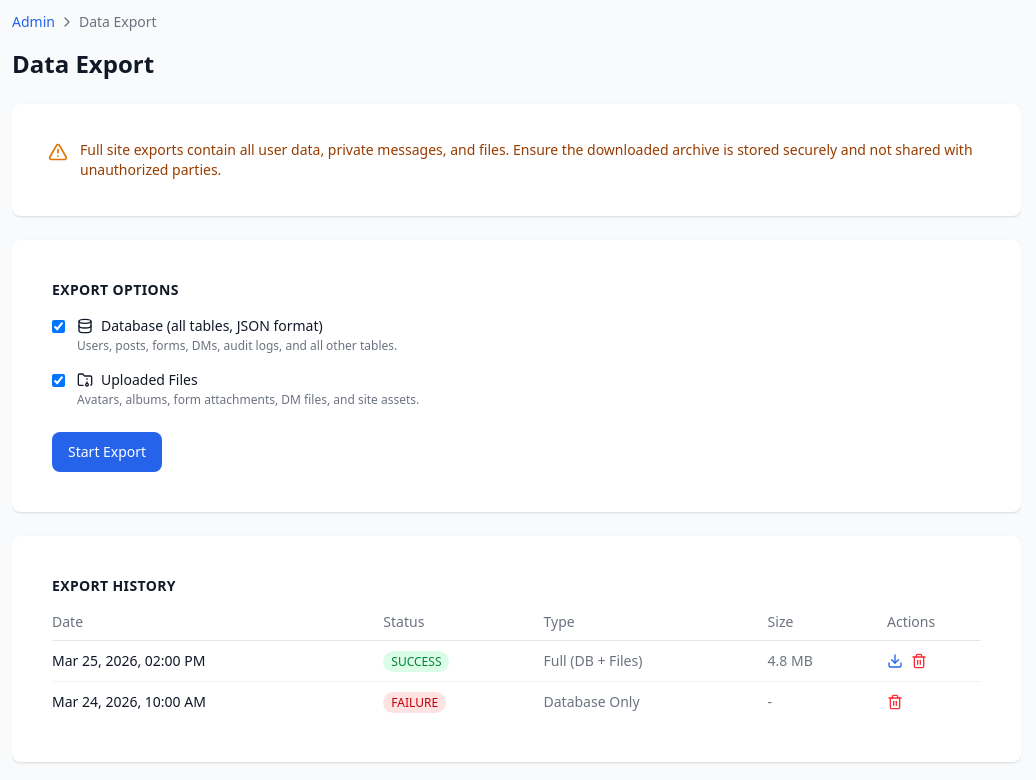
DataExportView › disables start button when no options selected
The image size is (1036, 780).
# Uncheck both options
Click the 1st checkbox at {"x": 58, "y": 326}, box [52,320,65,333]
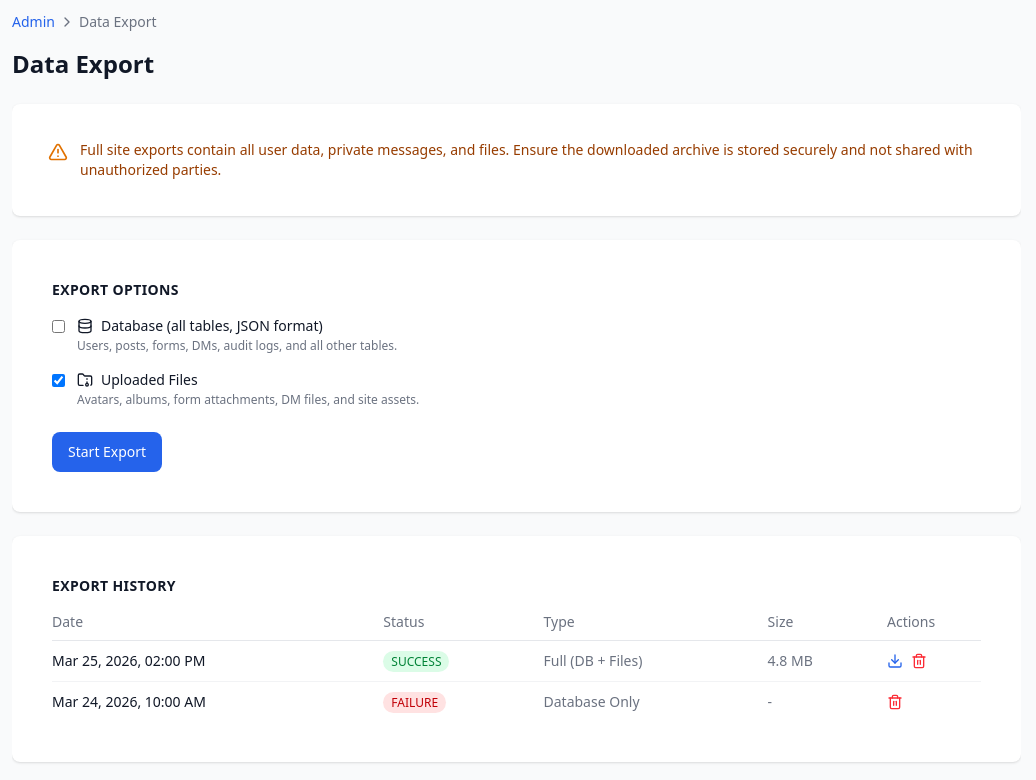
Click the 2nd checkbox at {"x": 58, "y": 380}, box [52,374,65,387]
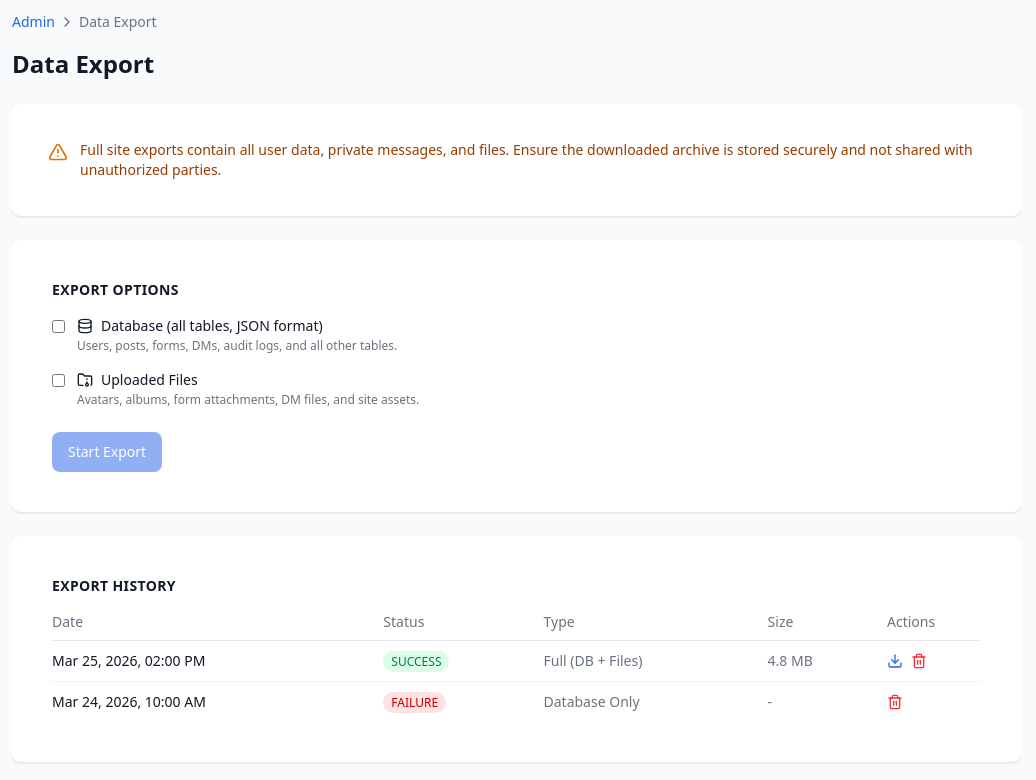
Check: the button "Start Export" is disabled, box [52,432,162,472]
